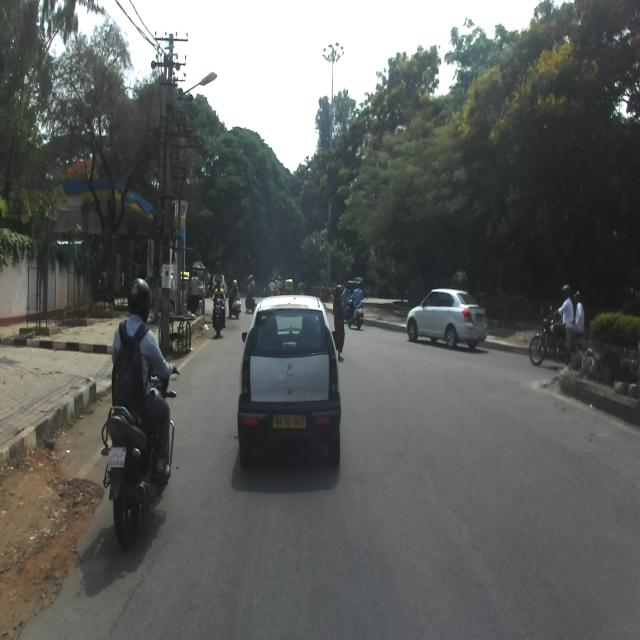car ahead at: (234, 287, 342, 473), (407, 285, 488, 357)
motorcycle ahead at: (102, 398, 182, 550)
